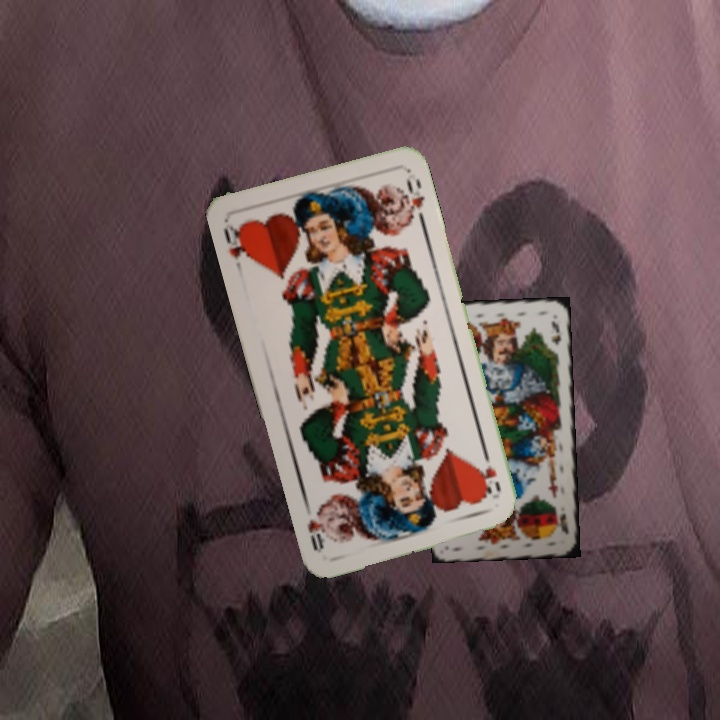HO: (219, 217, 253, 275), (474, 447, 504, 502)
SK: (555, 510, 571, 537)
